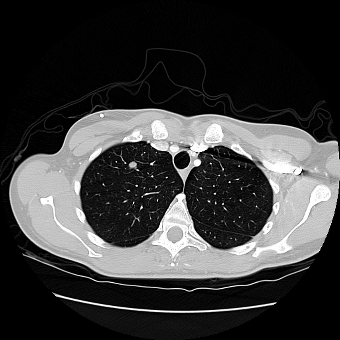nodule: (128, 161, 136, 169)
